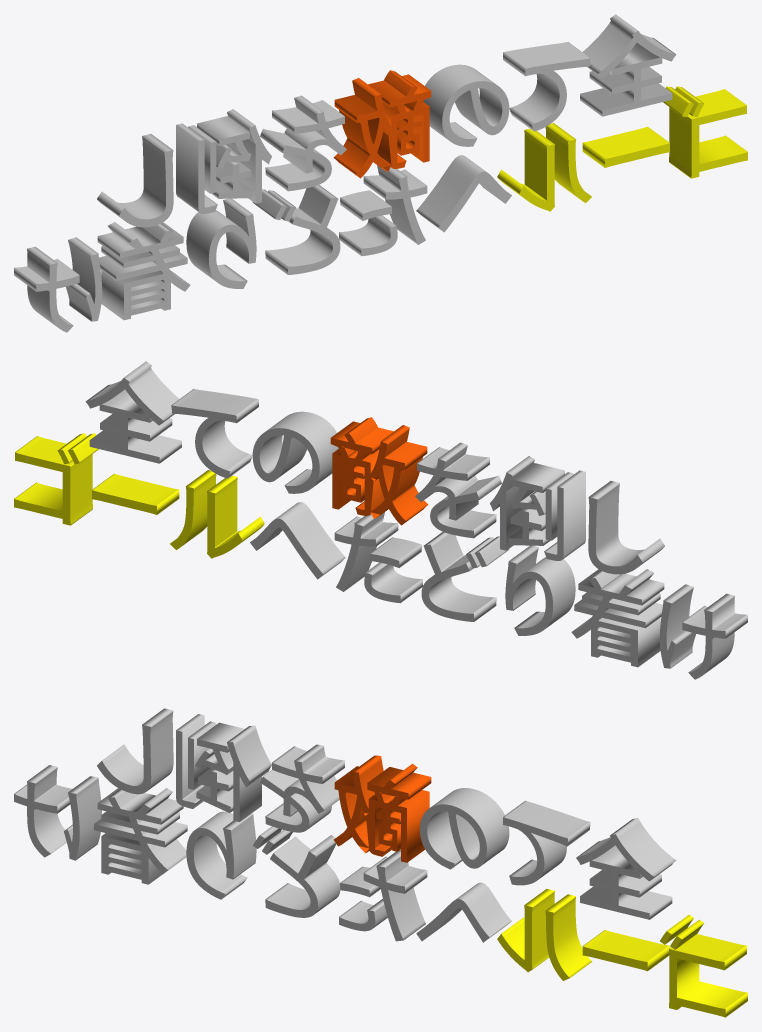
File: Shiji.obj
3 renders of one model, top to bottom at view 1: azimuth 30°, elevation 25°; view 2: azimuth 150°, elevation 25°; view 3: azimuth 330°, elevation 25°, orthographic.
Parts seen in each view (by area): view 1: テキスト; view 2: テキスト; view 3: テキスト.
Boxes of the visible parts, x1,y1,x2,y2 form: テキスト: (14, 14, 747, 332); テキスト: (14, 361, 747, 679); テキスト: (14, 708, 747, 1017).
Size of the model in its own units: 8.79 by 1.94 by 0.48.
1 material, 1 textured.
